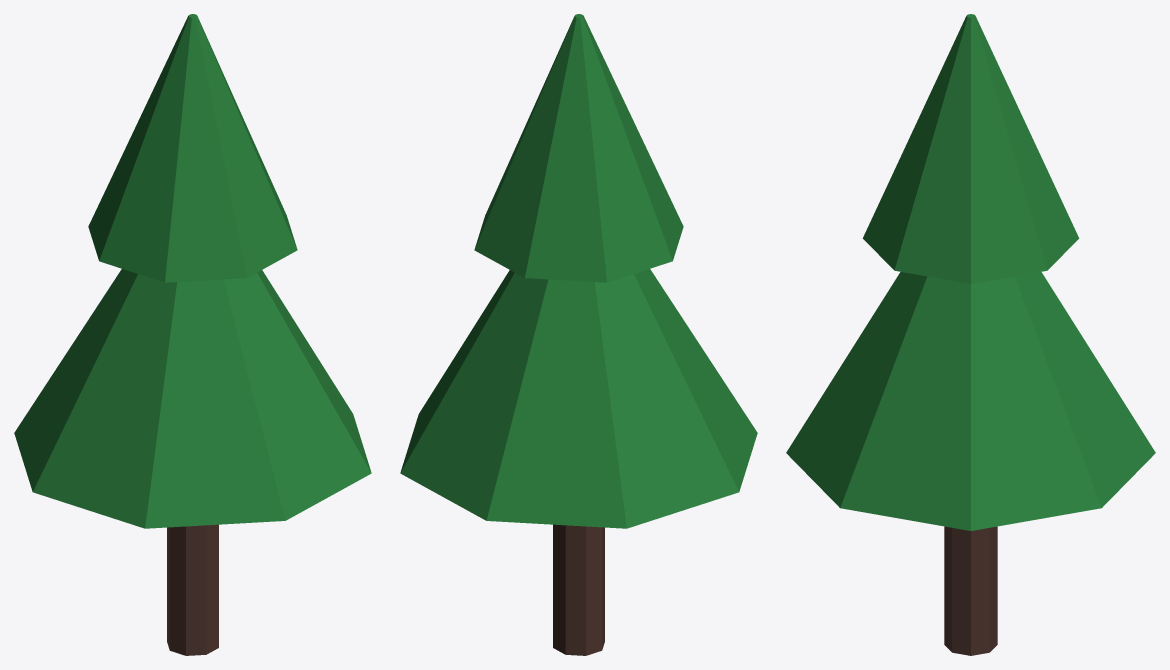
File: pine.glb
3 views of the same model, side by side, from view 1: azimuth 30°, elevation 25°; view 2: azimuth 150°, elevation 25°; view 3: azimuth 270°, elevation 25° (orthographic).
Visible parts, largest first — view 1: pine; view 2: pine; view 3: pine.
Part boxes in pixels (box(x1,y1,x2,y2)): pine: box(14, 14, 371, 655); pine: box(400, 14, 757, 655); pine: box(786, 14, 1155, 655).
Size of the model in its own units: 2.99 by 5.61 by 2.99.
